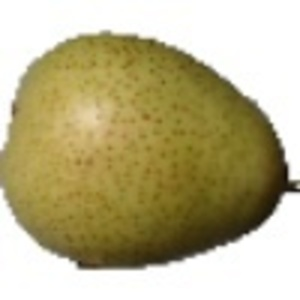pera: (1, 29, 300, 272)
